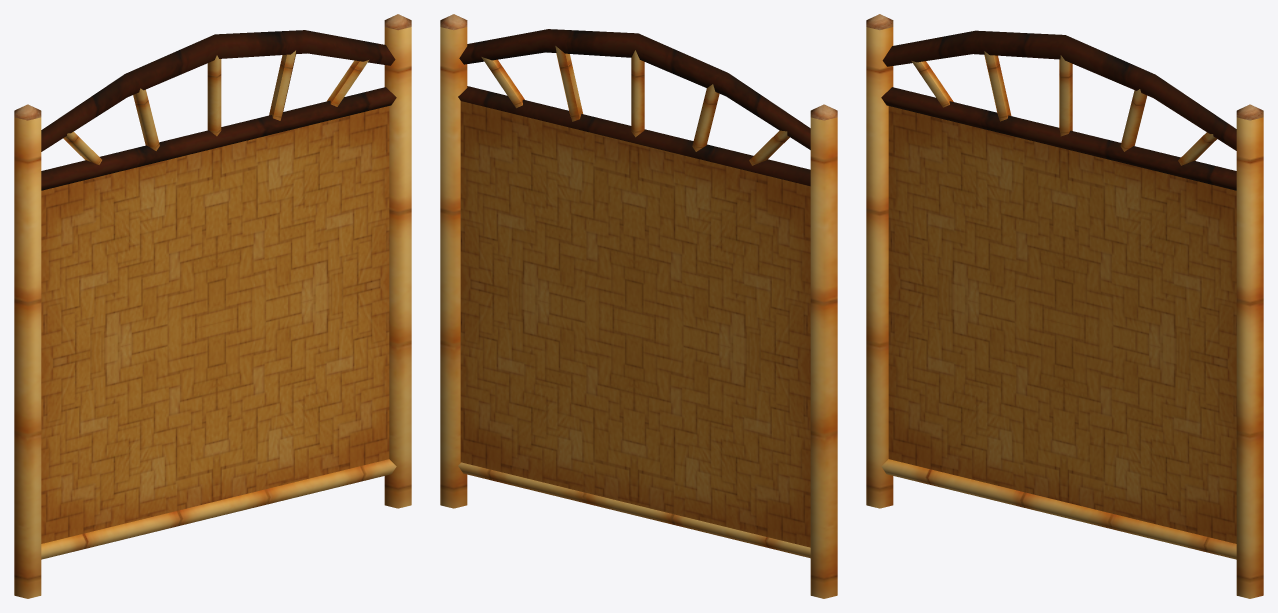
The model's file is Bamboo_Screen_01.FBX.
3 renders of one model, left to right at view 1: azimuth 30°, elevation 25°; view 2: azimuth 150°, elevation 25°; view 3: azimuth 330°, elevation 25°, orthographic.
Visible parts, largest first — view 1: Bamboo_Screen_01; view 2: Bamboo_Screen_01; view 3: Bamboo_Screen_01.
Part boxes in pixels (x1,y1,x2,y2): Bamboo_Screen_01: [14, 14, 411, 598]; Bamboo_Screen_01: [440, 14, 837, 598]; Bamboo_Screen_01: [866, 14, 1263, 598].
Size of the model in its own units: 1.46 by 0.0866 by 1.8.
